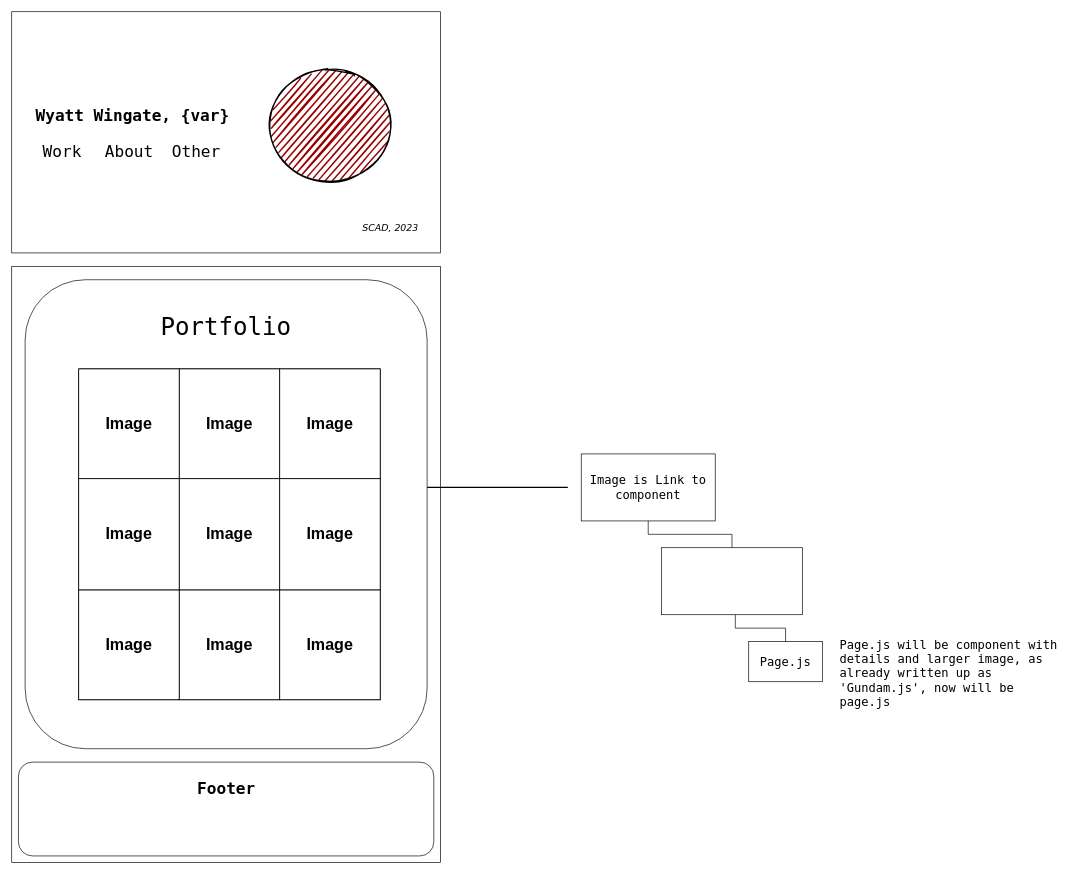
Image size: 1075x874. Some labels were removed from this diagram. Here are the shapes that lost their labels. From the top down, the box of each, then its label:
(265, 71, 394, 180): LOGO
(661, 547, 802, 615): folder name (lURL path)
